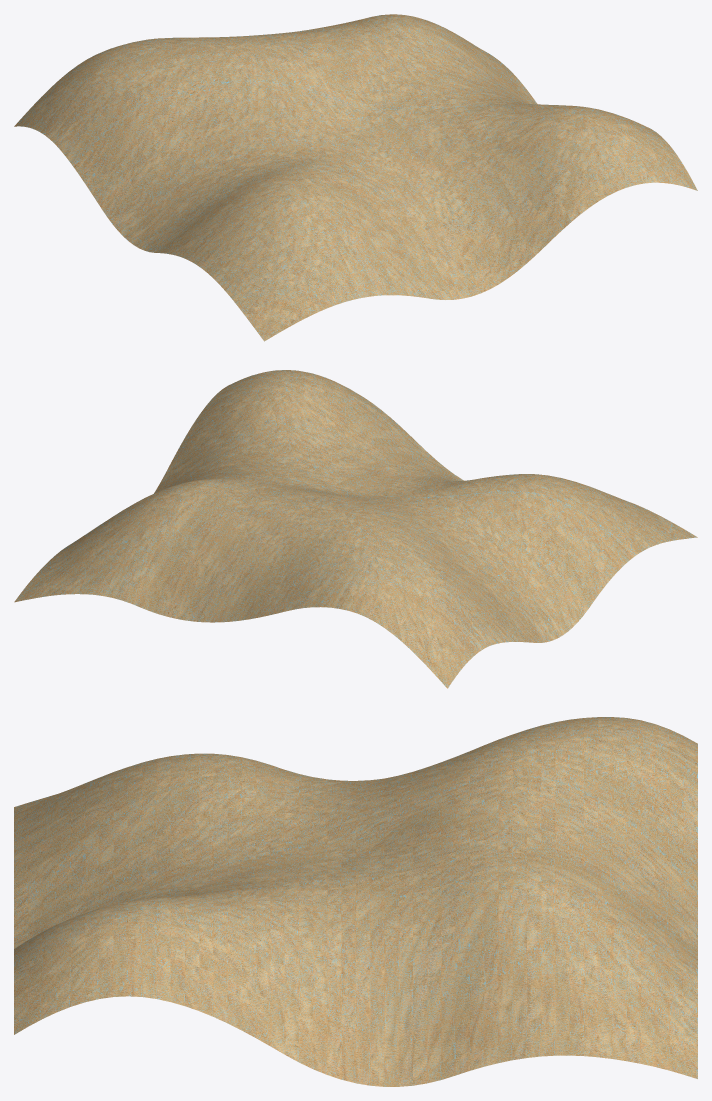
Rendered from dune6.fbx.
3 renders of one model, top to bottom at view 1: azimuth 30°, elevation 25°; view 2: azimuth 150°, elevation 25°; view 3: azimuth 270°, elevation 25°, orthographic. The views are drawn at different scales.
Visible parts, largest first — view 1: Model; view 2: Model; view 3: Model.
Boxes of the visible parts, x1=… form: Model: x1=14, y1=14, x2=697, y2=341; Model: x1=14, y1=370, x2=697, y2=688; Model: x1=14, y1=717, x2=697, y2=1086.
Size of the model in its own units: 18.29 by 4.95 by 18.29.
